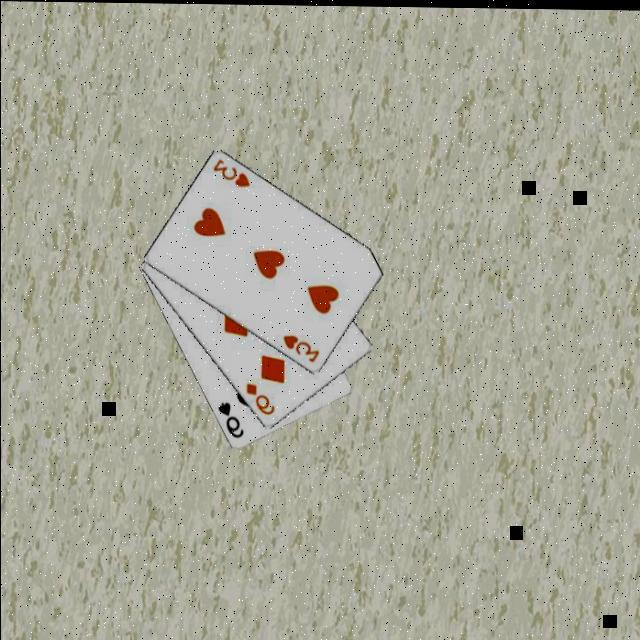3H: (280, 328, 324, 364), (211, 154, 254, 188)
6D: (243, 378, 278, 416)
6S: (215, 396, 248, 438)
